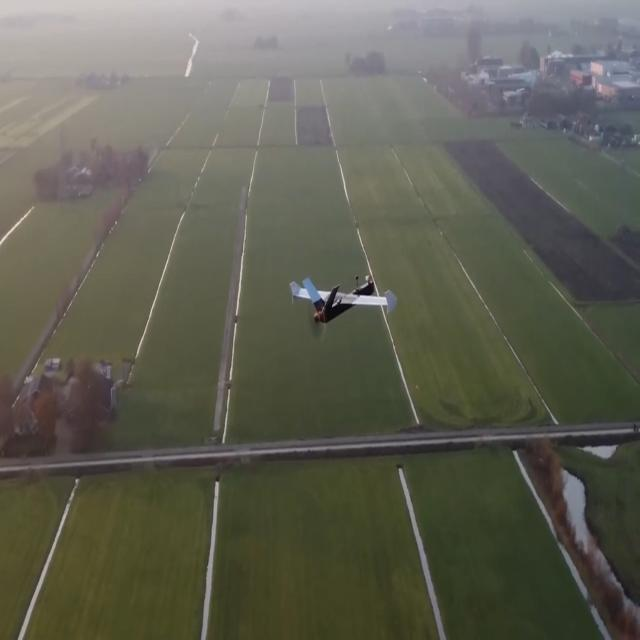iha: (322, 270, 366, 330)
